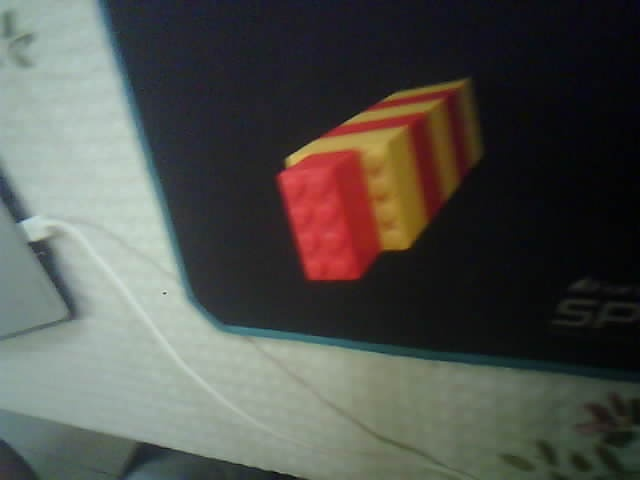lego: (273, 77, 487, 284)
